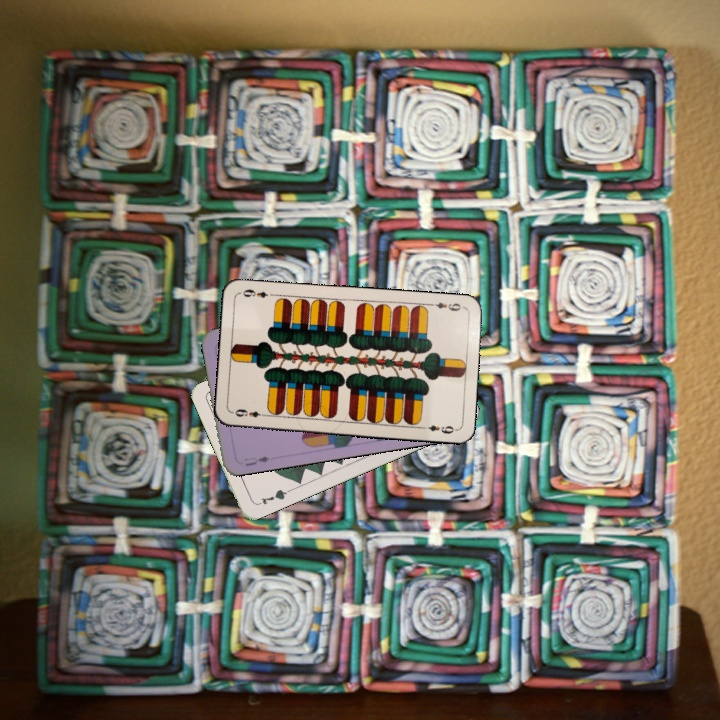E9: (426, 298, 466, 314), (229, 405, 270, 420)
EU: (240, 452, 272, 469)
G7: (253, 485, 292, 508)
